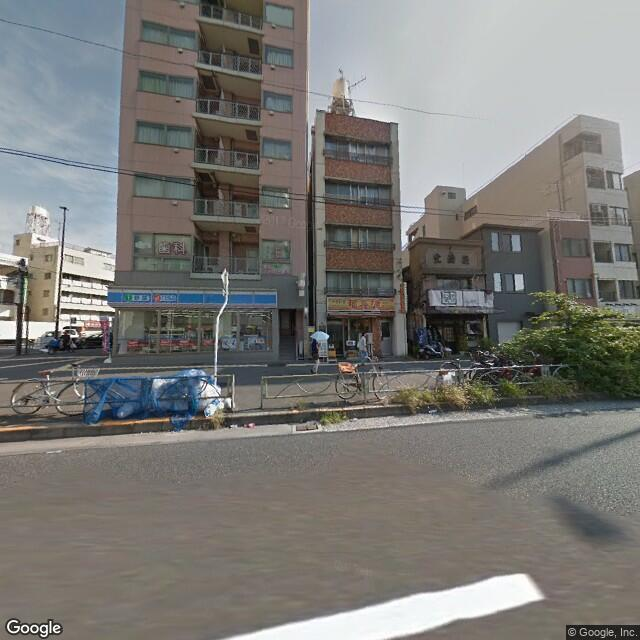lawson: (107, 286, 281, 310)
